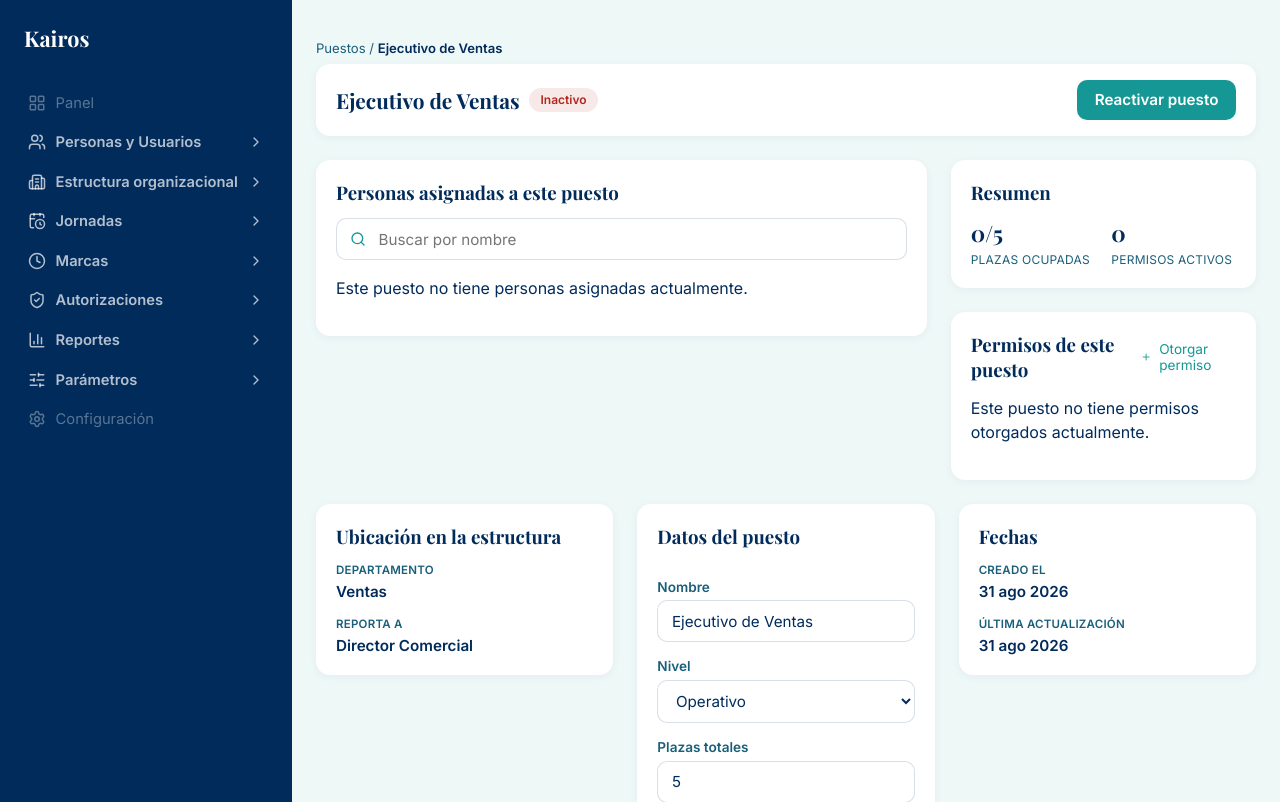
Test: FichaPuestoPage › bloquea la reactivación cuando el departamento o el superior están inactivos, con el detail real
Expected: the text "Inactivo" is shown, x1=529 y1=88 x2=598 y2=112
Click the button "Reactivar puesto". click: (1157, 100)
box: x1=1077 y1=80 x2=1236 y2=120
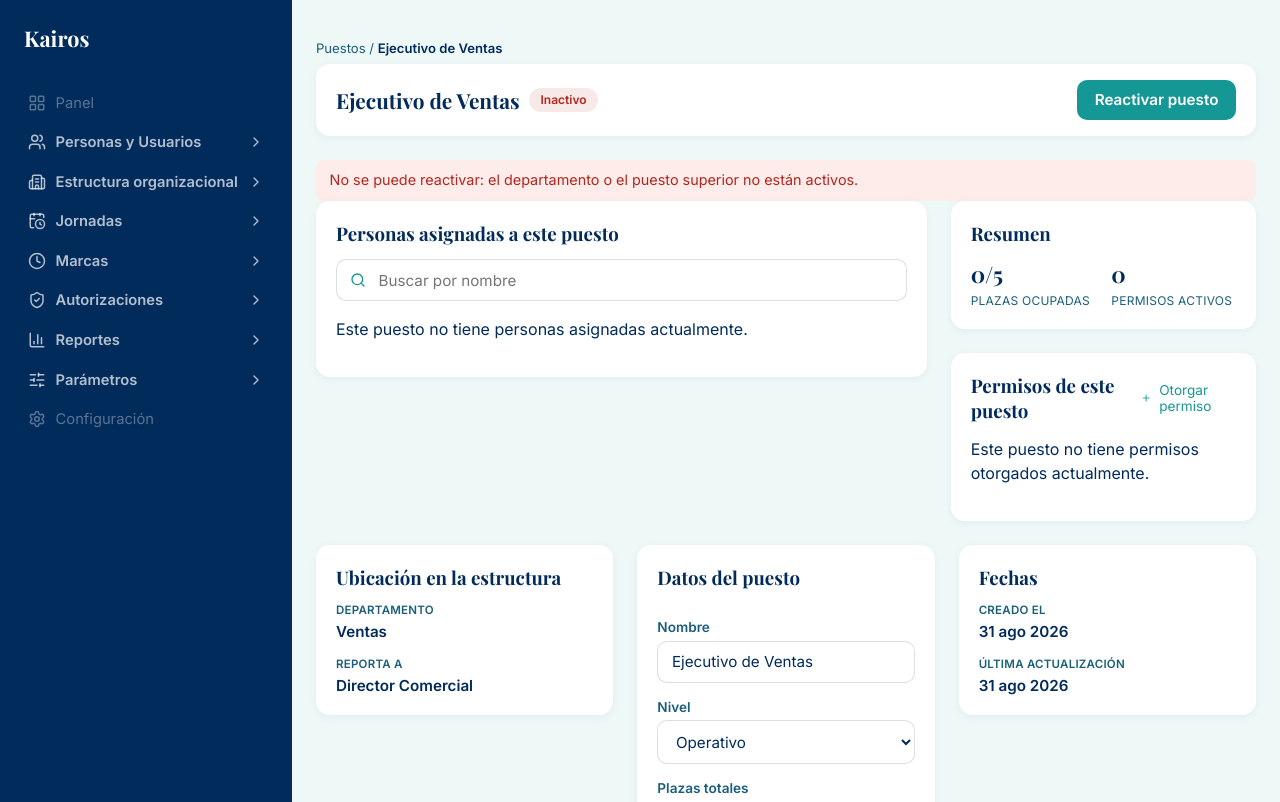
Expected: the text "Inactivo" is shown, x1=529 y1=88 x2=598 y2=112
Result: the text "No se puede reactivar: el departamento o el puesto superior no están activos." is shown at x1=316 y1=160 x2=1256 y2=201
